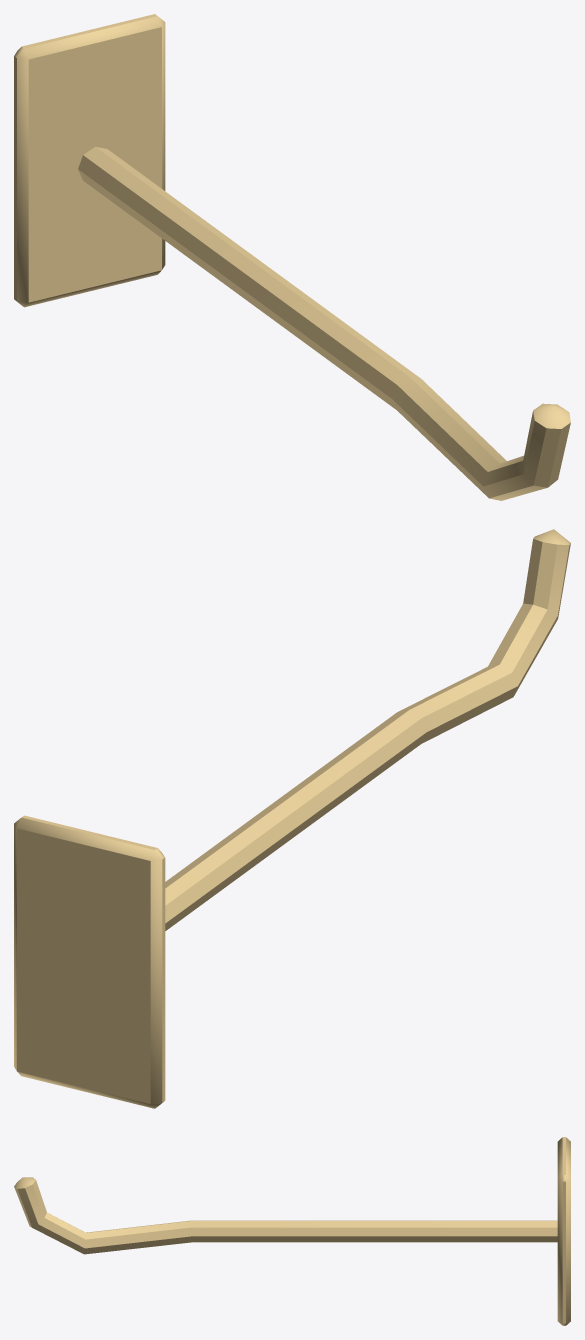
File: sign_door_hook.glb
The picture shows the model from 3 angles, top to bottom: view 1: azimuth 30°, elevation 25°; view 2: azimuth 150°, elevation 25°; view 3: azimuth 270°, elevation 25°; orthographic projection. The views are drawn at different scales.
Parts seen in each view (by area): view 1: sign_door_hook; view 2: sign_door_hook; view 3: sign_door_hook.
Part boxes in pixels (<box>): sign_door_hook: <box>14,14,570,500</box>; sign_door_hook: <box>14,529,570,1108</box>; sign_door_hook: <box>14,1137,570,1325</box>.
Size of the model in its own units: 0.03 by 0.05 by 0.1673.
